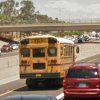Bus: (12, 31, 78, 85)
